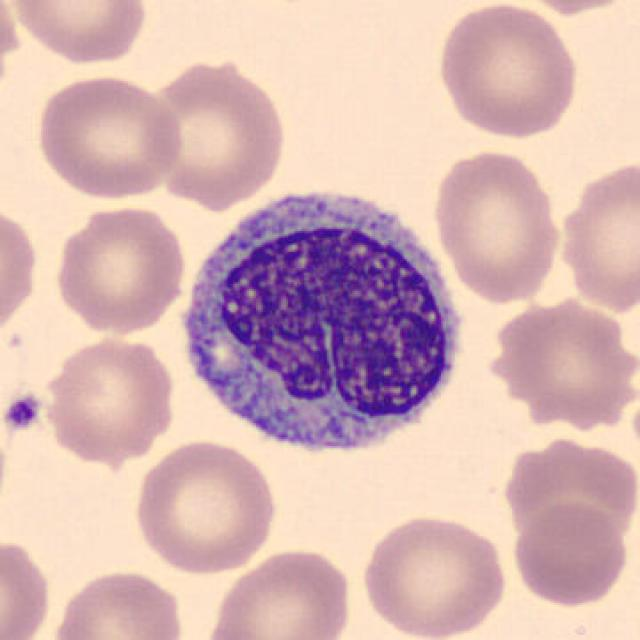Lymphocyte: (165, 171, 473, 473)
Platelets: (2, 390, 44, 436)
RBC: (144, 54, 290, 210), (428, 146, 566, 305), (128, 436, 281, 576), (432, 2, 581, 141), (30, 71, 187, 201), (357, 509, 511, 640), (50, 203, 190, 335), (41, 333, 178, 464), (498, 432, 638, 548), (201, 545, 355, 640), (553, 156, 640, 318), (508, 499, 633, 608), (46, 566, 188, 640), (5, 0, 151, 65), (0, 200, 41, 348), (0, 532, 55, 638), (505, 0, 640, 18), (0, 0, 21, 106)
